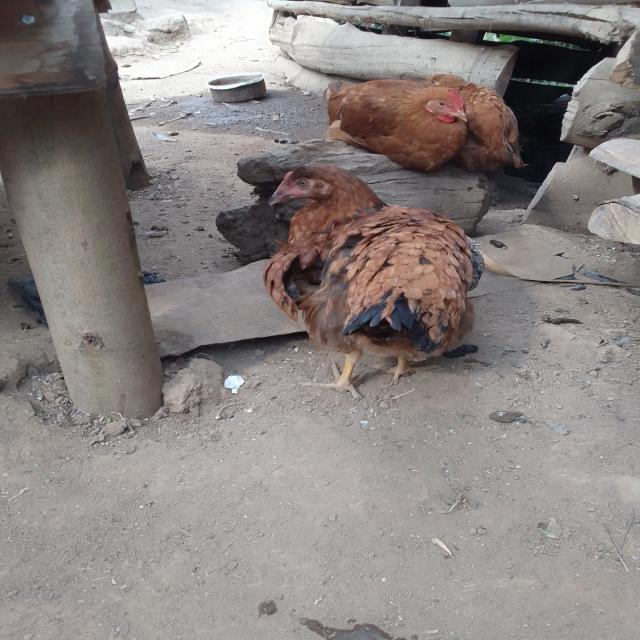hen: (178, 149, 551, 417)
